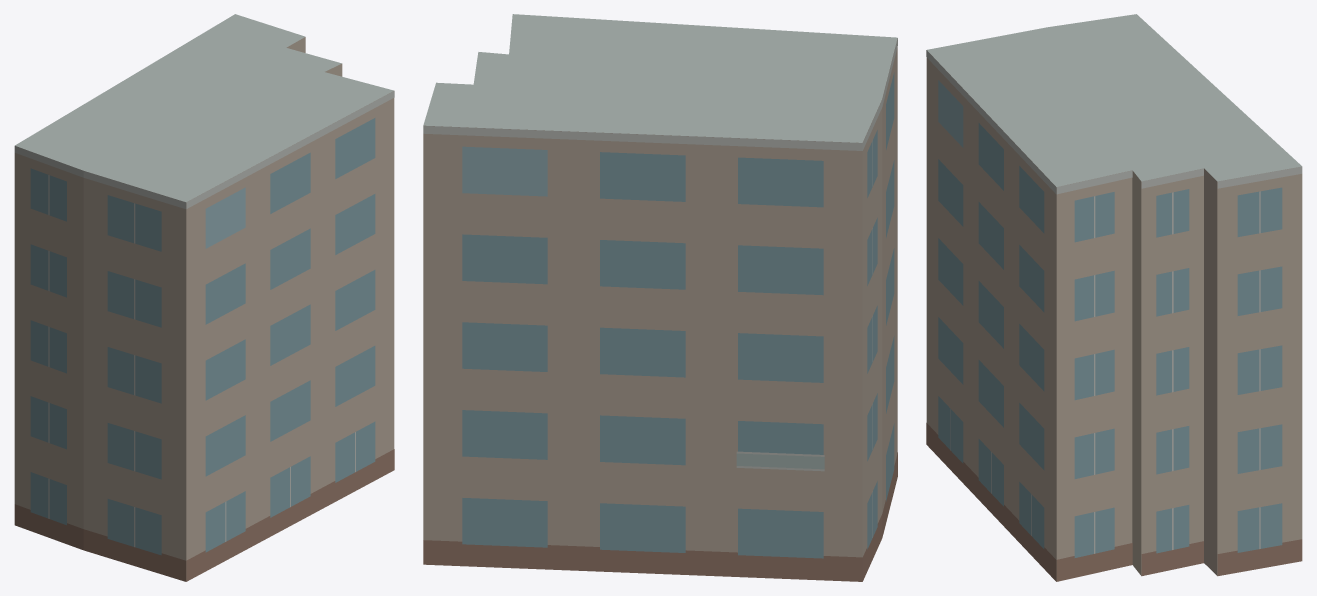
Rendered from survey-upis-32718194.glb.
3 renders of one model, left to right at view 1: azimuth 30°, elevation 25°; view 2: azimuth 150°, elevation 25°; view 3: azimuth 270°, elevation 25°, orthographic. The views are drawn at different scales.
Visible parts, largest first — view 1: survey-upis-32718194.tmp; view 2: survey-upis-32718194.tmp; view 3: survey-upis-32718194.tmp.
Boxes of the visible parts, x1,y1,x2,y2 form: survey-upis-32718194.tmp: (14,14,394,581); survey-upis-32718194.tmp: (423,14,897,581); survey-upis-32718194.tmp: (926,14,1302,581).
Size of the model in its own units: 12.43 by 13.2 by 11.4.
